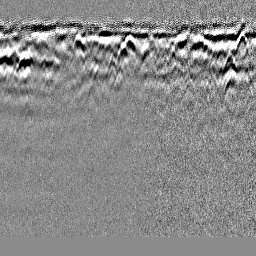cavity: (120, 32, 140, 54)
